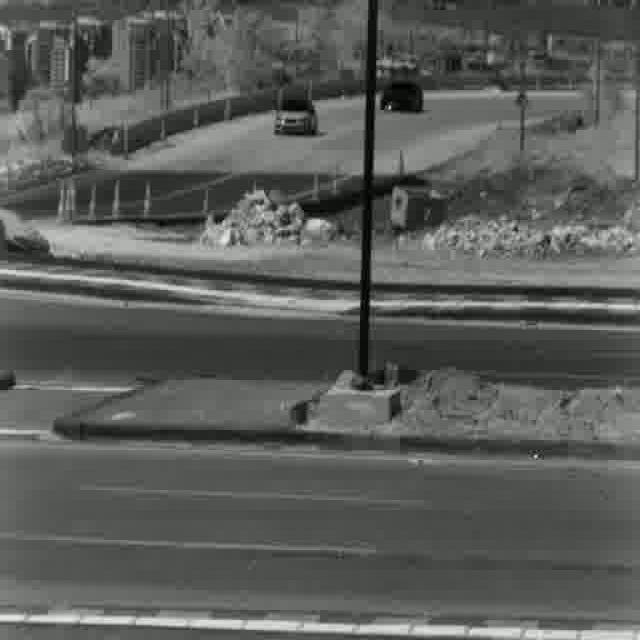Car: (272, 100, 318, 135), (381, 80, 423, 115)
